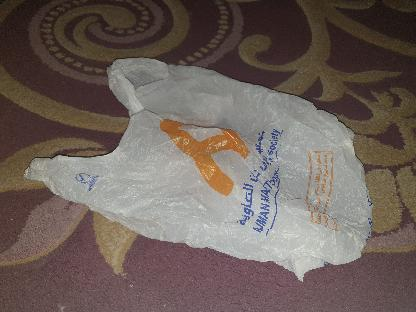Plastic Bag: (21, 52, 377, 282)
